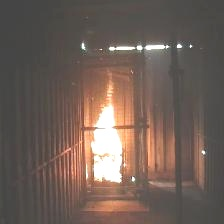fire: (86, 98, 128, 184)
